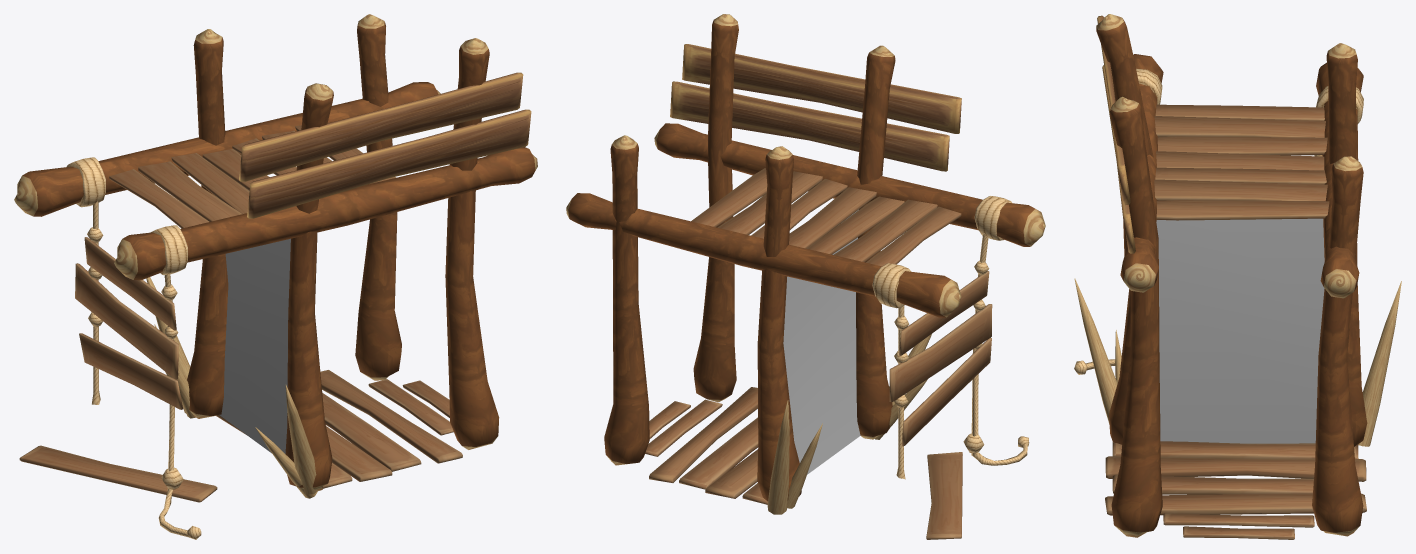
File: BrokenBridgeTower.fbx
3 renders of one model, left to right at view 1: azimuth 30°, elevation 25°; view 2: azimuth 150°, elevation 25°; view 3: azimuth 270°, elevation 25°, orthographic. The views are drawn at different scales.
Visible parts, largest first — view 1: polySurface1257; view 2: polySurface1257; view 3: polySurface1257.
Boxes of the visible parts, left/top/right/bottom form: polySurface1257: left=14, top=14, right=537, bottom=539; polySurface1257: left=566, top=14, right=1045, bottom=539; polySurface1257: left=1074, top=14, right=1401, bottom=539.
Bounding box in the file's own units: 73.13 × 69.57 × 47.15.
